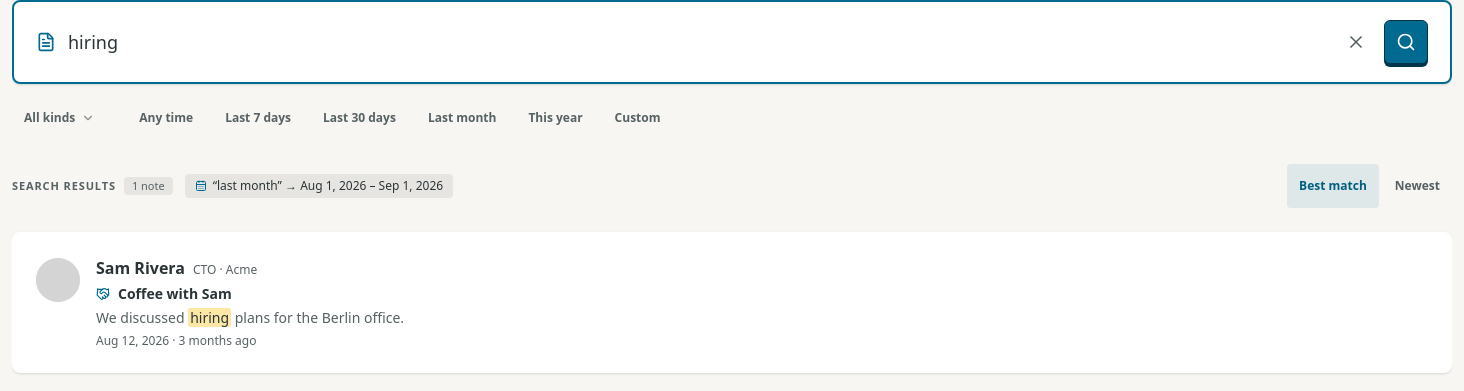
Test: InteractionSearchPanel › keeps the last answer in place while the next loads, and swaps the cards once
Replace the text in the field named "Search your notes" with "lunch" at {"x": 698, "y": 42}, box [68,22,1328,62]
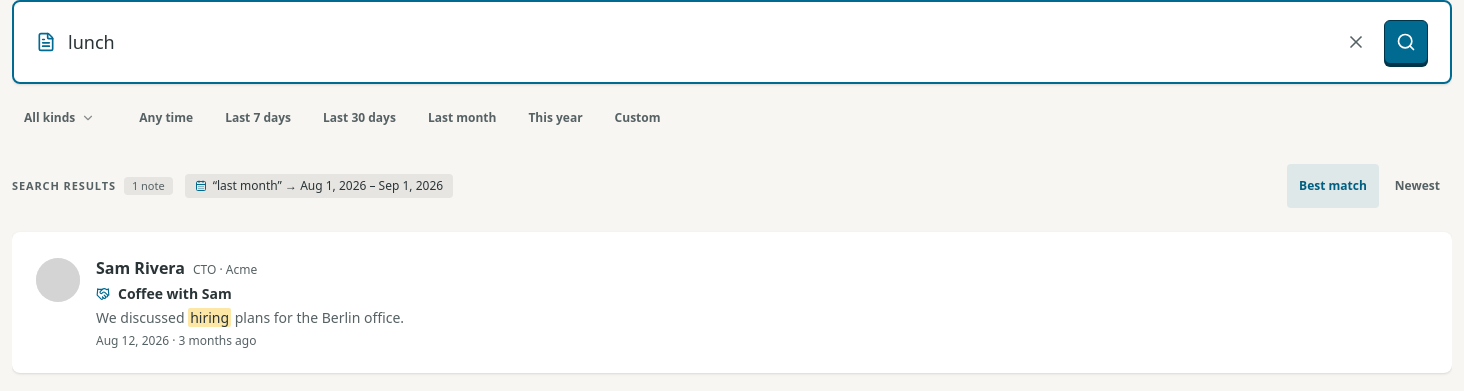
Click the button named "Search" at {"x": 1406, "y": 42}, box [1384,20,1428,64]
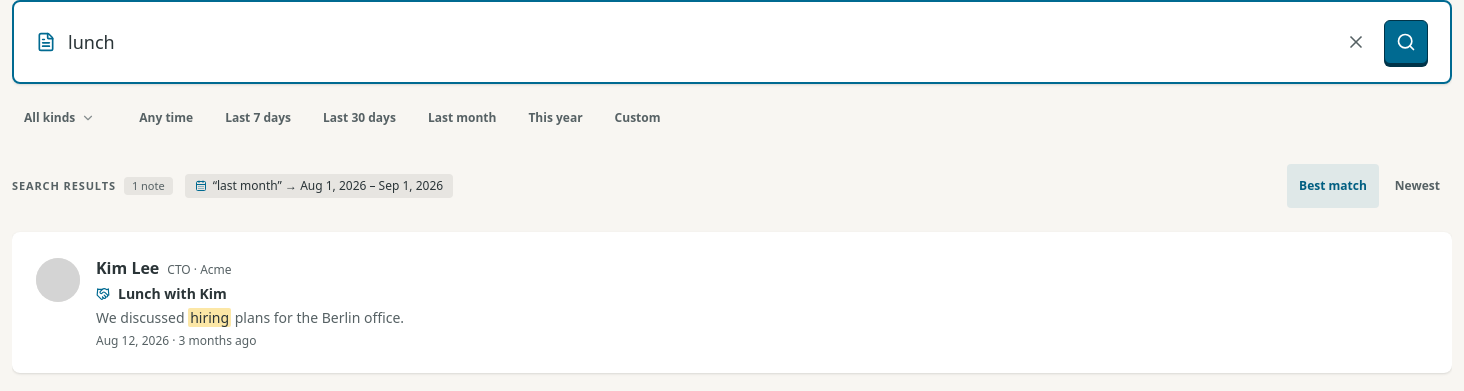
Expected: the text "Kim Lee" is shown, [96,256,159,280]
Expected: the button "Sam Rivera" is gone
